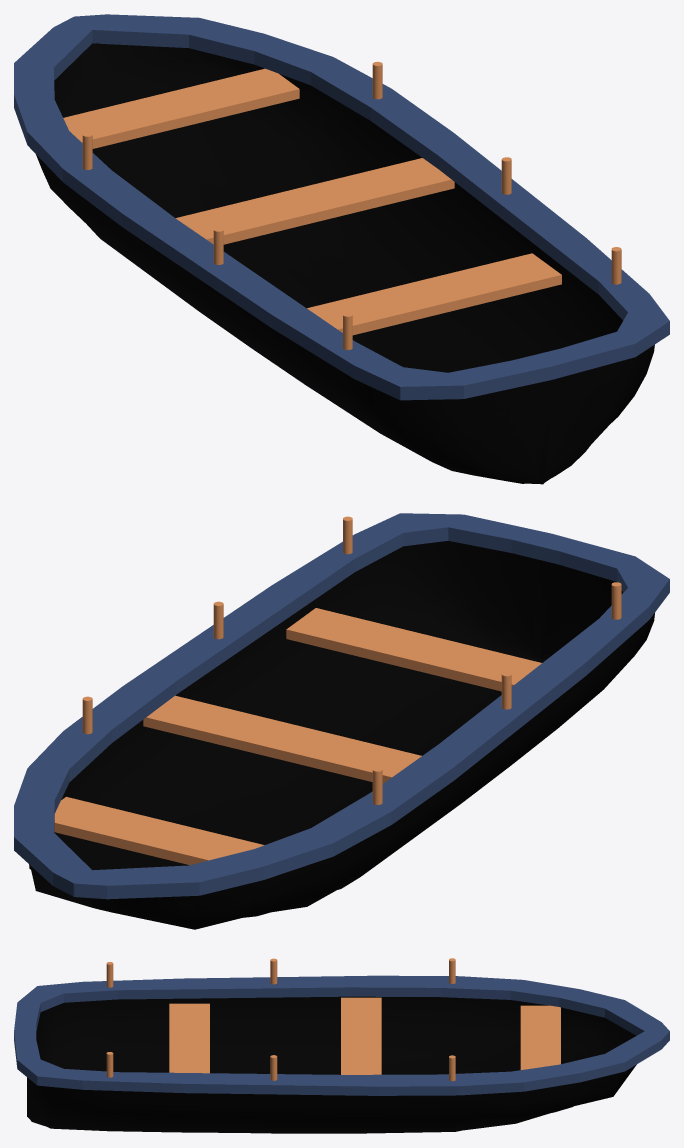
The model's file is Curragh.fbx.
3 views of the same model, one above another, from view 1: azimuth 30°, elevation 25°; view 2: azimuth 150°, elevation 25°; view 3: azimuth 270°, elevation 25° (orthographic). The views are drawn at different scales.
Visible parts, largest first — view 1: Cylinder.011; view 2: Cylinder.011; view 3: Cylinder.011.
Boxes of the visible parts, x1,y1,x2,y2 form: Cylinder.011: [14, 14, 669, 484]; Cylinder.011: [14, 513, 669, 929]; Cylinder.011: [14, 958, 669, 1133].
Bounding box in the file's own units: 58.68 × 26.76 × 147.
